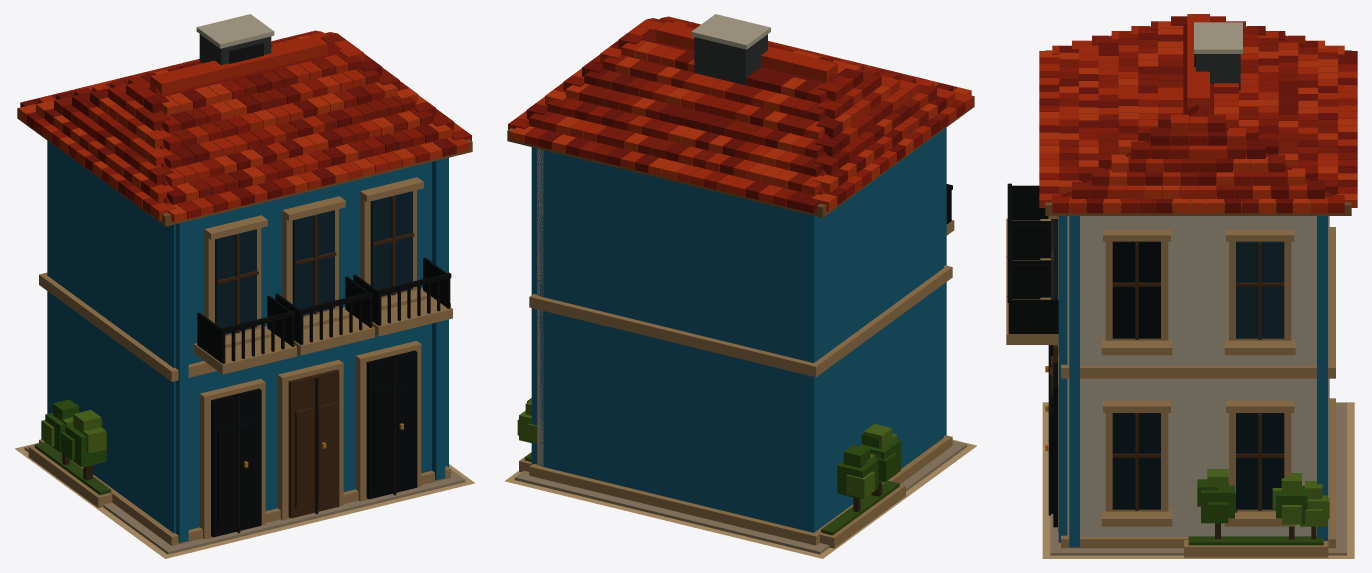
The model's file is SM_Mapa_001.fbx.
3 views of the same model, side by side, from view 1: azimuth 30°, elevation 25°; view 2: azimuth 150°, elevation 25°; view 3: azimuth 270°, elevation 25° (orthographic). The views are drawn at different scales.
Visible parts, largest first — view 1: SM_Mapa_001; view 2: SM_Mapa_001; view 3: SM_Mapa_001.
Boxes of the visible parts, left/top/right/bottom form: SM_Mapa_001: left=15, top=14, right=474, bottom=558; SM_Mapa_001: left=505, top=14, right=976, bottom=558; SM_Mapa_001: left=1006, top=14, right=1357, bottom=558.
Bounding box in the file's own units: 8 × 7.28 × 10.17.
